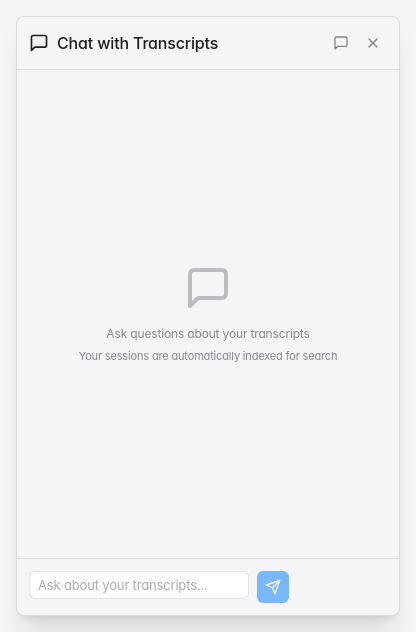
ChatPanel › Conversations List › should show untitled for conversations without title
Click the button named "Conversations" at (341, 43), box left=327, top=29, right=355, bottom=57
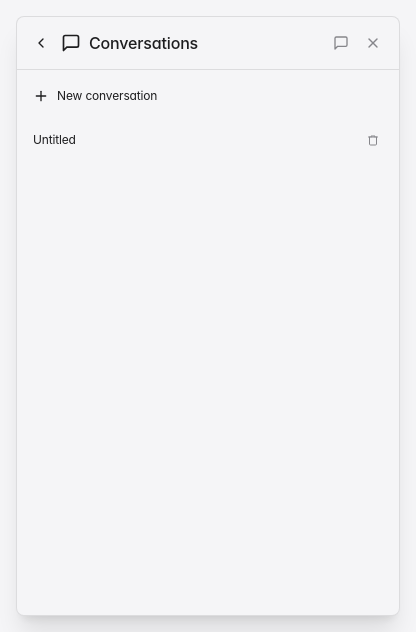
Check: the text "Untitled" is shown, box left=33, top=132, right=76, bottom=147
